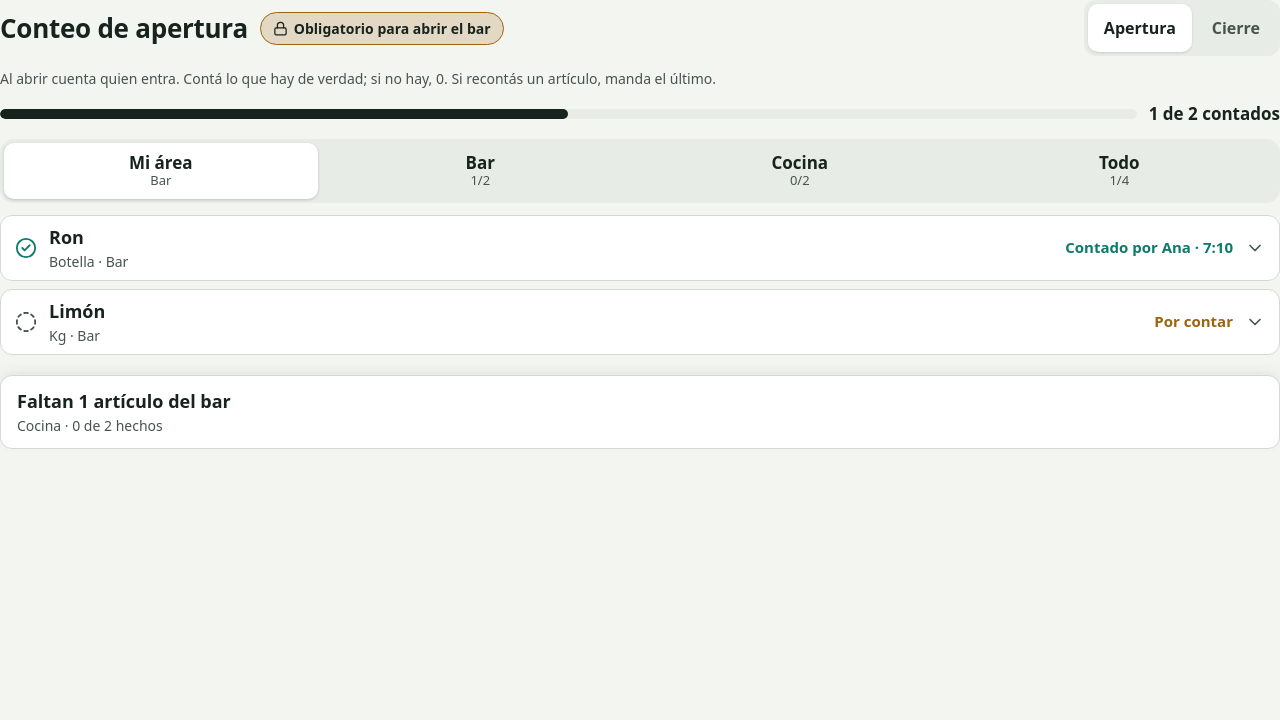
Test case: AreaCountPanel › una coma en las enteras avisa y no pega los dígitos («5,5» nunca es 55)
Expected: the text "Ron" is shown, [49, 224, 84, 248]
Click the button "Ron Botella · Bar Contado por Ana · 7:10" at coordinates (66, 236), box [1, 216, 1279, 280]
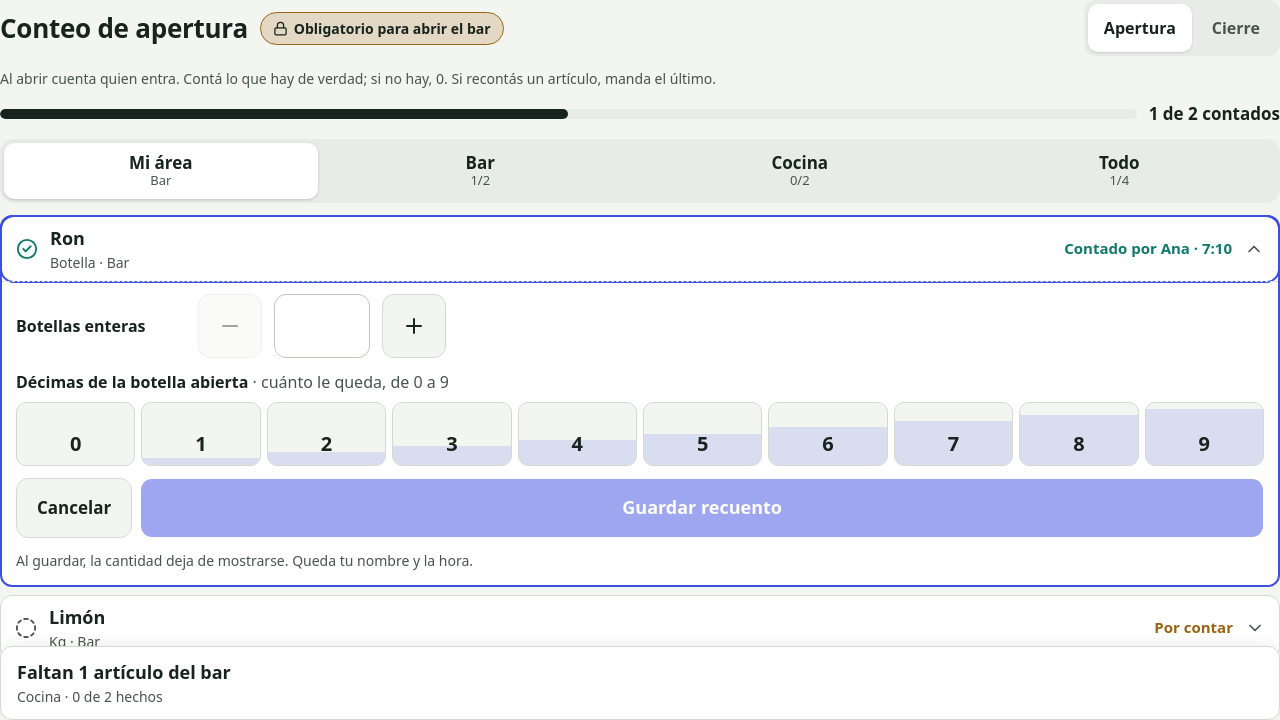
Type "5,5" into the field labelled "Botellas enteras" at coordinates (322, 326), box [274, 294, 370, 358]
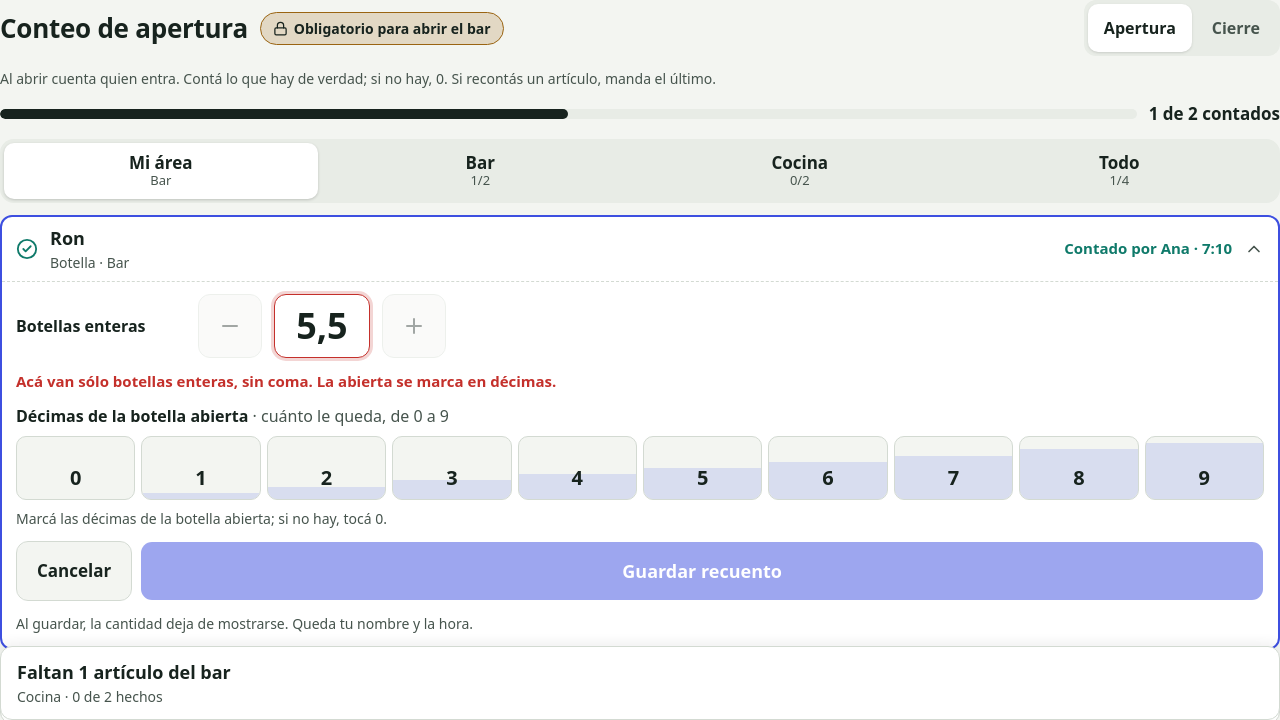
Now the message "Acá van sólo botellas enteras, sin coma. La abierta se marca en décimas." is shown, box [16, 370, 556, 390]
Now the button named "Sumar una a Ron" is disabled, box [382, 294, 446, 358]
Click the button named "5/10 de Ron" at coordinates (703, 468), box [643, 436, 762, 500]
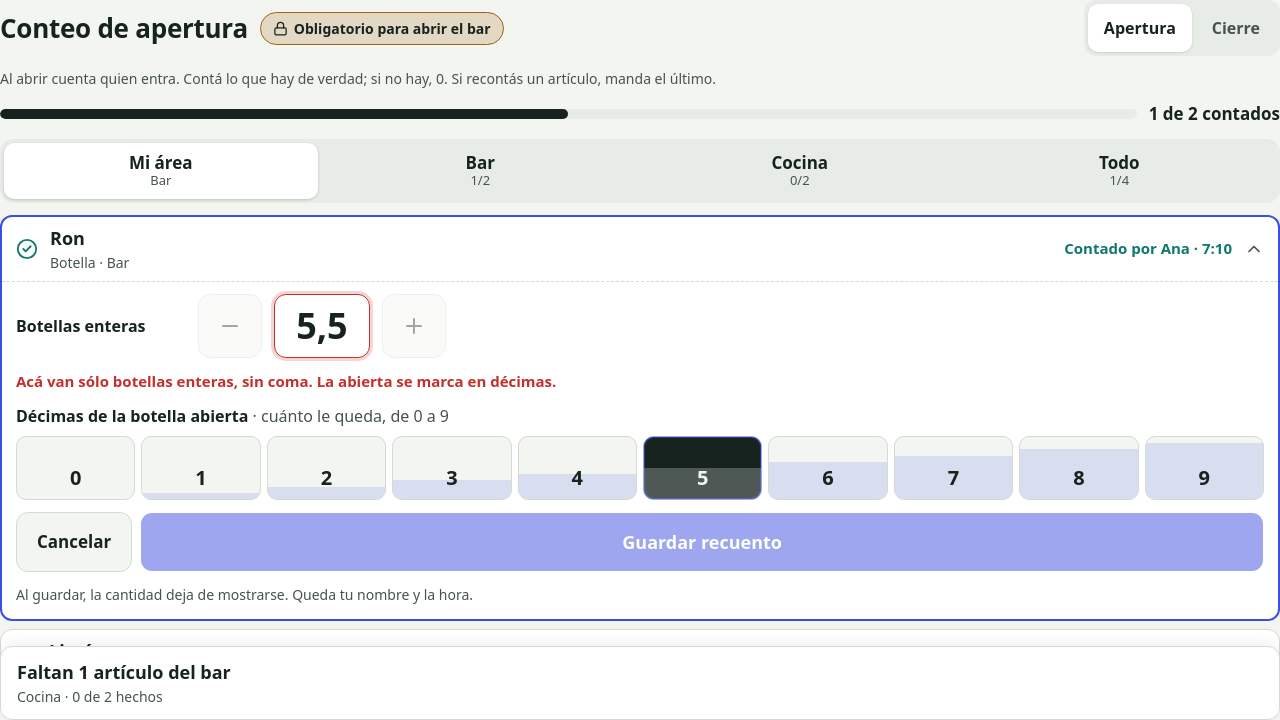
Now the button "Guardar recuento" is disabled, box [140, 512, 1264, 572]
Replace the text in the field labelled "Botellas enteras" with "5" at coordinates (322, 326), box [274, 294, 370, 358]
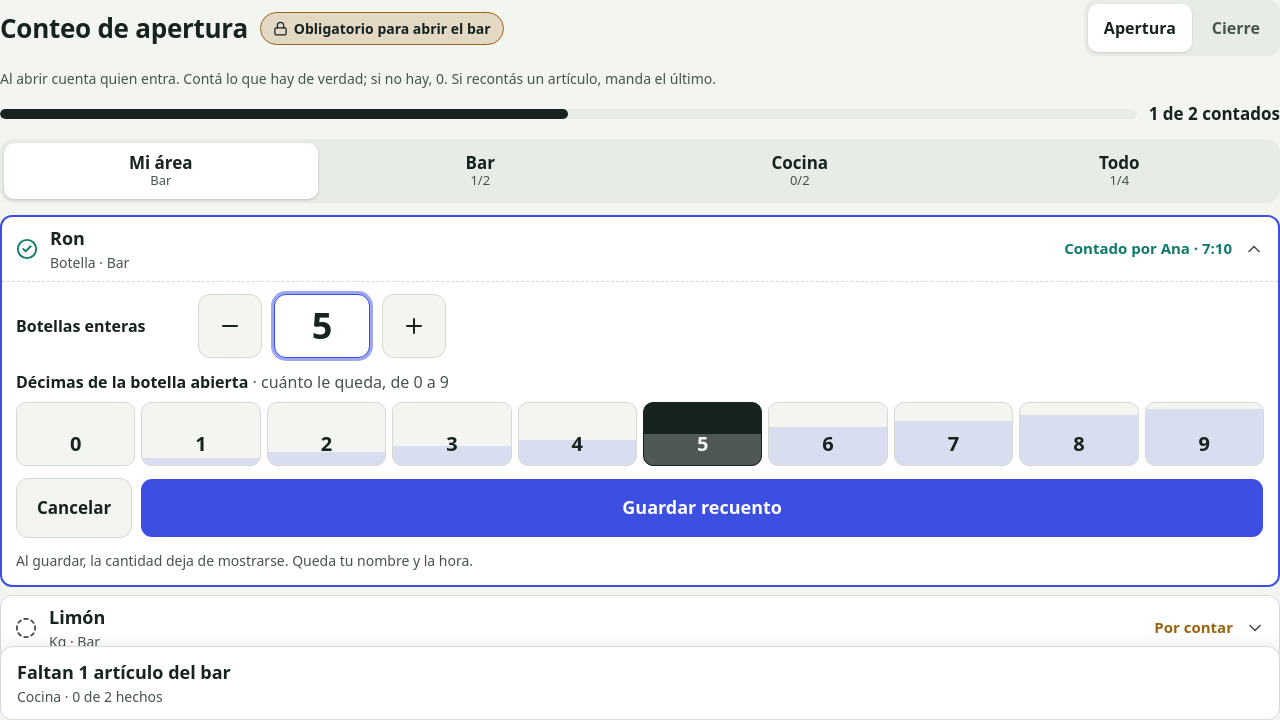
Now the button "Guardar recuento" is enabled, box [140, 478, 1264, 538]
